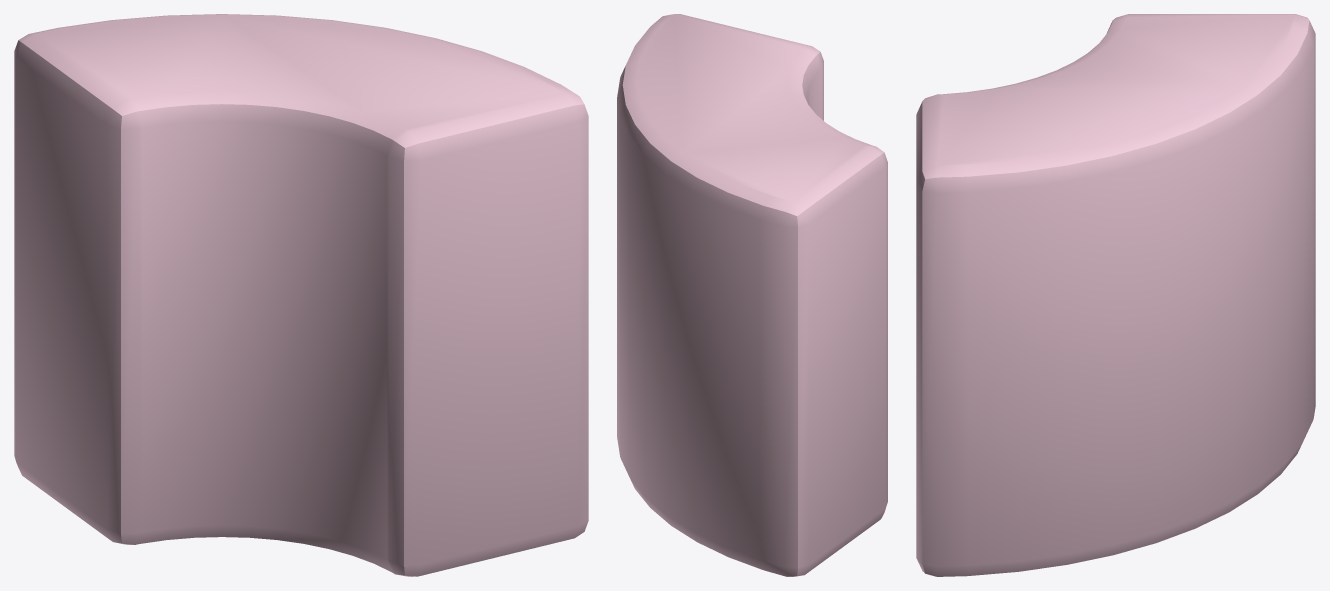
Rendered from waiting-corner-outer.fbx.
3 renders of one model, left to right at view 1: azimuth 30°, elevation 25°; view 2: azimuth 150°, elevation 25°; view 3: azimuth 270°, elevation 25°, orthographic. The views are drawn at different scales.
Visible parts, largest first — view 1: Rim; view 2: Rim; view 3: Rim.
Boxes of the visible parts, x1,y1,x2,y2 form: Rim: (14,14,588,576); Rim: (617,14,887,576); Rim: (916,14,1315,576).
Bounding box in the file's own units: 0.2292 × 0.26 × 0.2292.
